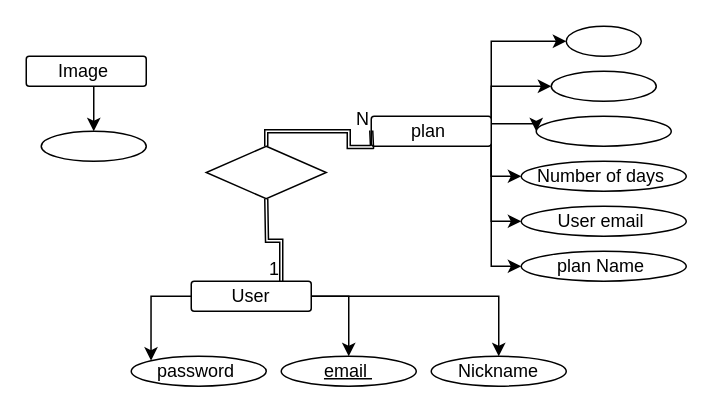
This 713x413 diagram has some shape labels left out. The shapes that lost their labels are listed below. From the top down, each one's centre as x and y in pixels, then its label:
At point (603, 40): "budget".
At point (603, 85): "ID".
At point (93, 145): "S3k".
At point (603, 130): "Destination".
At point (265, 172): "Have".
